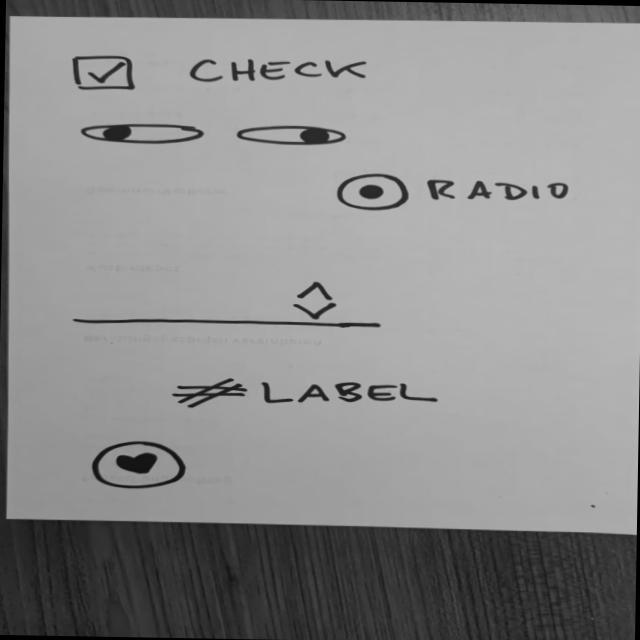checkbox: (70, 52, 378, 99)
icon-button: (88, 439, 192, 493)
label: (168, 372, 443, 415)
number-input: (67, 275, 389, 333)
radio: (333, 171, 580, 217)
toggle: (76, 122, 210, 148), (234, 123, 352, 147)
